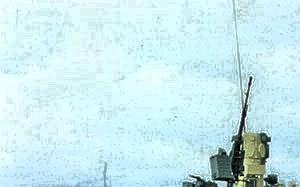tanks: (183, 91, 287, 187), (289, 185, 298, 187)
